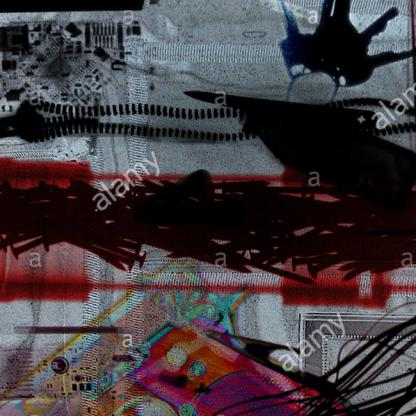gun: (0, 251, 366, 415)
